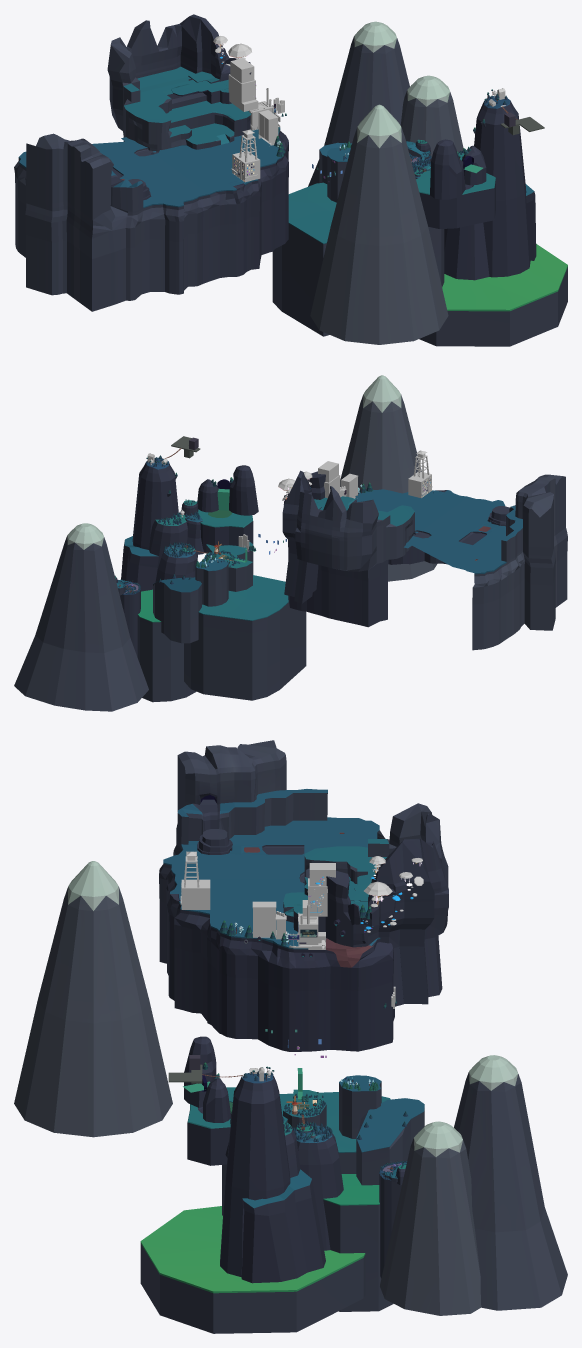
Rendered from EXT_MountainRange_Biggies.fbx.
The picture shows the model from 3 angles, top to bottom: view 1: azimuth 30°, elevation 25°; view 2: azimuth 150°, elevation 25°; view 3: azimuth 270°, elevation 25°; orthographic projection. The views are drawn at different scales.
Parts seen in each view (by area): view 1: Plane.008, Snow Peaks, Plane.032, Level 3 Platform.005, Cube.385, Snow Peaks.002, Level 3 Platform.003, Snow Peaks.001, Hill07, Cube.383, Cube.4209, 8PlyFood.064 (+5 smaller); view 2: Plane.008, Snow Peaks.002, Level 3 Platform.003, Plane.032, Snow Peaks, Level 3 Platform.004, Hill07, Level 3 Platform.001, Cube.385, Cube.383, Level 3 Platform, Cube.4209 (+7 smaller); view 3: Plane.008, Snow Peaks, Snow Peaks.002, Plane.032, Level 3 Platform.005, Snow Peaks.001, Cube.385, Hill07, Level 3 Platform.004, Level 3 Platform.001, Hill02, Cube.383 (+10 smaller).
Boxes of the visible parts, left/top/right/bottom form: Plane.008: left=14, top=127, right=288, bottom=311; Snow Peaks: left=310, top=104, right=448, bottom=344; Plane.032: left=107, top=14, right=251, bottom=151; Level 3 Platform.005: left=419, top=244, right=567, bottom=346; Cube.385: left=474, top=96, right=530, bottom=277; Snow Peaks.002: left=308, top=21, right=409, bottom=186; Level 3 Platform.003: left=272, top=182, right=336, bottom=336; Snow Peaks.001: left=400, top=75, right=463, bottom=157; Hill07: left=444, top=152, right=536, bottom=280; Cube.383: left=416, top=170, right=495, bottom=228; Cube.4209: left=430, top=139, right=465, bottom=199; 8PlyFood.064: left=228, top=58, right=258, bottom=111; Plane.008: left=288, top=474, right=567, bottom=650; Snow Peaks.002: left=14, top=523, right=148, bottom=711; Level 3 Platform.003: left=184, top=575, right=306, bottom=700; Plane.032: left=282, top=470, right=414, bottom=603; Snow Peaks: left=340, top=375, right=437, bottom=581; Level 3 Platform.004: left=137, top=589, right=196, bottom=702; Hill07: left=121, top=500, right=203, bottom=591; Level 3 Platform.001: left=153, top=577, right=201, bottom=643; Cube.385: left=132, top=457, right=178, bottom=549; Cube.383: left=192, top=501, right=253, bottom=552; Level 3 Platform: left=195, top=558, right=228, bottom=606; Cube.4209: left=229, top=465, right=258, bottom=515; Plane.008: left=159, top=740, right=394, bottom=1051; Snow Peaks: left=14, top=861, right=172, bottom=1137; Snow Peaks.002: left=454, top=1055, right=567, bottom=1310; Plane.032: left=283, top=803, right=448, bottom=1006; Level 3 Platform.005: left=140, top=1206, right=365, bottom=1333; Snow Peaks.001: left=380, top=1121, right=481, bottom=1315; Cube.385: left=220, top=1073, right=290, bottom=1277; Hill07: left=225, top=1111, right=325, bottom=1283; Level 3 Platform.004: left=323, top=1174, right=393, bottom=1311; Level 3 Platform.001: left=356, top=1098, right=424, bottom=1185; Hill02: left=296, top=1124, right=343, bottom=1250; Cube.383: left=187, top=1087, right=235, bottom=1165.
Bounding box in the file's own units: 497839 × 279119 × 396383.
